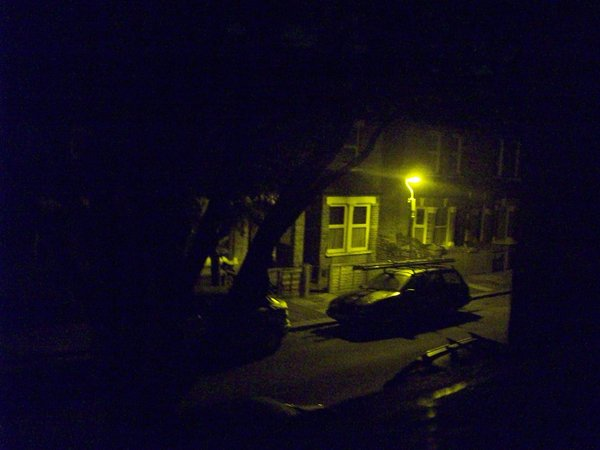car: (325, 253, 472, 347)
